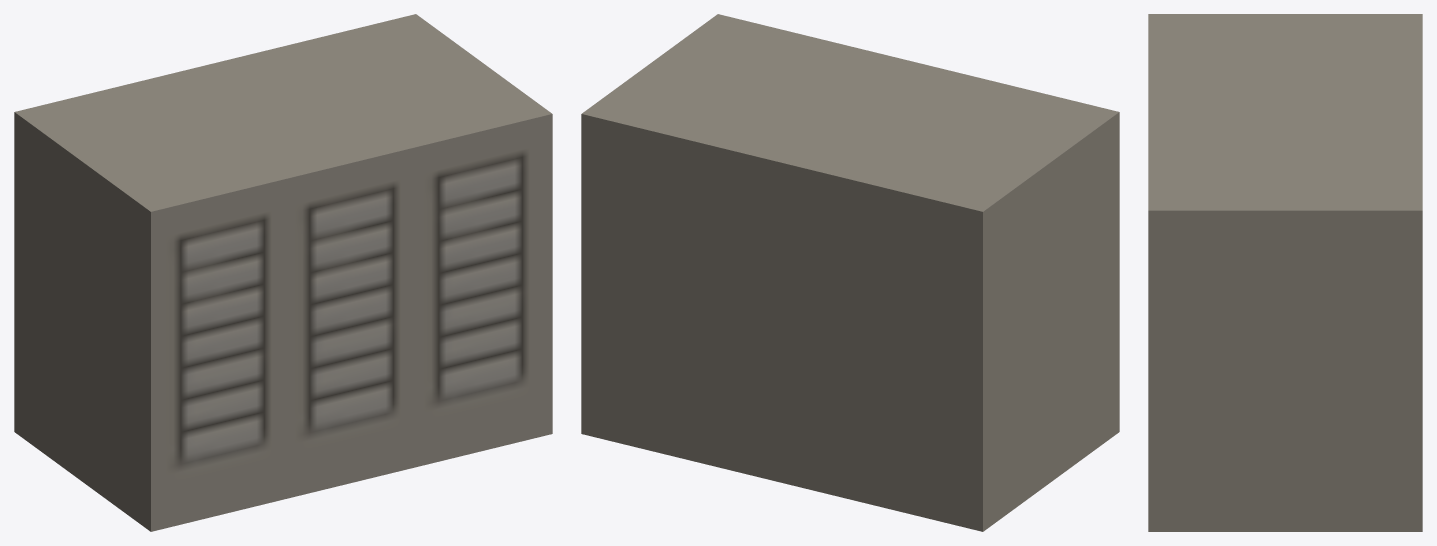
File: AirConditioning_A1.fbx
3 views of the same model, side by side, from view 1: azimuth 30°, elevation 25°; view 2: azimuth 150°, elevation 25°; view 3: azimuth 270°, elevation 25° (orthographic).
Visible parts, largest first — view 1: AirConditioning_A1; view 2: AirConditioning_A1; view 3: AirConditioning_A1.
Part boxes in pixels (bbox=[...]): AirConditioning_A1: bbox=[14, 14, 552, 531]; AirConditioning_A1: bbox=[581, 14, 1119, 531]; AirConditioning_A1: bbox=[1148, 14, 1422, 531].
Size of the model in its own units: 116 by 88 by 68.02.
